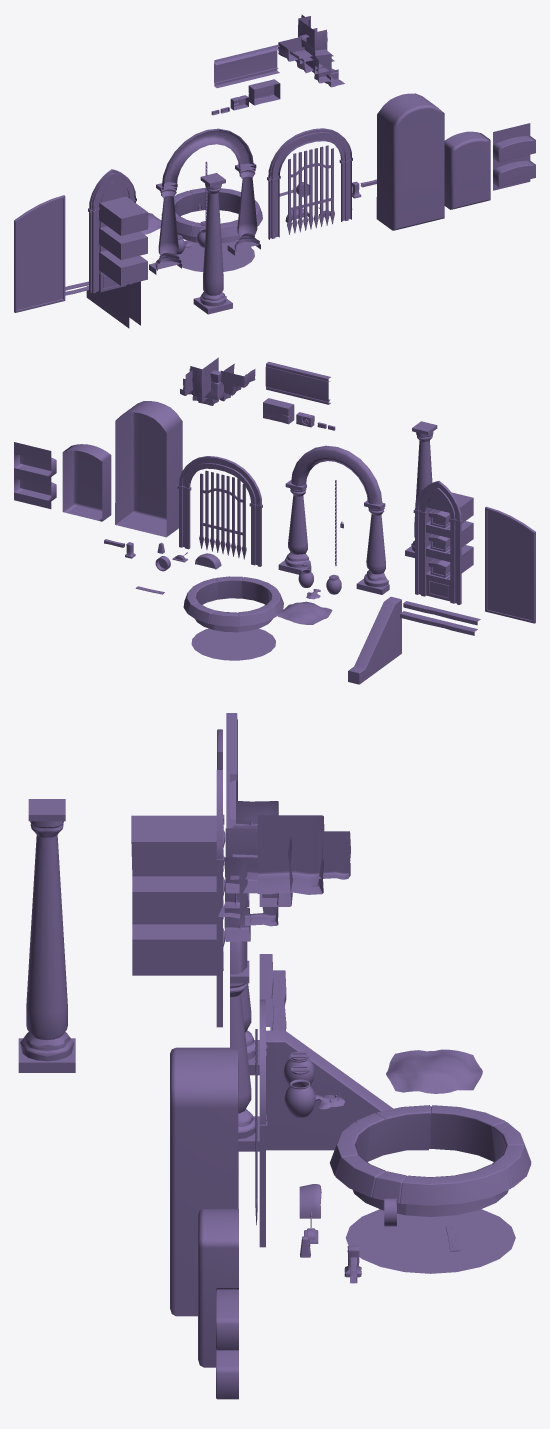
Rendered from cmc_reusables_group.fbx.
The picture shows the model from 3 angles, top to bottom: view 1: azimuth 30°, elevation 25°; view 2: azimuth 150°, elevation 25°; view 3: azimuth 270°, elevation 25°; orthographic projection. The views are drawn at different scales.
Visible parts, largest first — view 1: alcove_02, coffin_wall, L_large_door_low, entryway_arch, alcove_01, archway, gate, pillar, grave_wall, corner_brick, stone_border, molding_low (+3 smaller); view 2: alcove_02, coffin_wall, entryway_arch, L_large_door_low, stone_border, alcove_01, archway, gate, stair_bumper, grave_wall, stone_border_plane, corner_brick (+6 smaller); view 3: coffin_wall, stone_border, alcove_02, corner_brick, pillar, stone_border_plane, stair_bumper, alcove_01, entryway_arch, dirt_mound_02, grave_wall, archway (+4 smaller).
Boxes of the visible parts, left/top/right/bottom form: alcove_02: left=376, top=93, right=444, bottom=230; coffin_wall: left=88, top=169, right=148, bottom=293; L_large_door_low: left=14, top=195, right=65, bottom=312; entryway_arch: left=149, top=128, right=260, bottom=274; alcove_01: left=444, top=131, right=490, bottom=209; archway: left=267, top=128, right=352, bottom=239; gate: left=287, top=145, right=334, bottom=234; pillar: left=193, top=173, right=232, bottom=314; grave_wall: left=493, top=123, right=535, bottom=190; corner_brick: left=278, top=14, right=344, bottom=87; stone_border: left=161, top=188, right=262, bottom=243; molding_low: left=214, top=45, right=279, bottom=88; alcove_02: left=115, top=401, right=182, bottom=537; coffin_wall: left=413, top=481, right=473, bottom=604; entryway_arch: left=278, top=445, right=389, bottom=594; L_large_door_low: left=485, top=506, right=535, bottom=623; stone_border: left=183, top=576, right=283, bottom=632; alcove_01: left=62, top=444, right=111, bottom=521; archway: left=177, top=456, right=262, bottom=566; gate: left=199, top=470, right=246, bottom=559; stair_bumper: left=348, top=596, right=401, bottom=684; grave_wall: left=14, top=442, right=56, bottom=508; stone_border_plane: left=191, top=628, right=275, bottom=660; corner_brick: left=180, top=357, right=255, bottom=405; coffin_wall: left=131, top=770, right=225, bottom=1027; stone_border: left=330, top=1105, right=531, bottom=1216; alcove_02: left=170, top=1047, right=238, bottom=1316; corner_brick: left=218, top=800, right=350, bottom=941; pillar: left=18, top=799, right=75, bottom=1072; stone_border_plane: left=345, top=1209, right=515, bottom=1273; stair_bumper: left=266, top=1030, right=428, bottom=1150; alcove_01: left=198, top=1209, right=238, bottom=1367; entryway_arch: left=230, top=893, right=259, bottom=1151; dirt_mound_02: left=386, top=1049, right=482, bottom=1093; grave_wall: left=216, top=1288, right=238, bottom=1399; archway: left=259, top=999, right=267, bottom=1247.
Size of the model in its own units: 208 by 96.6 by 89.31.
